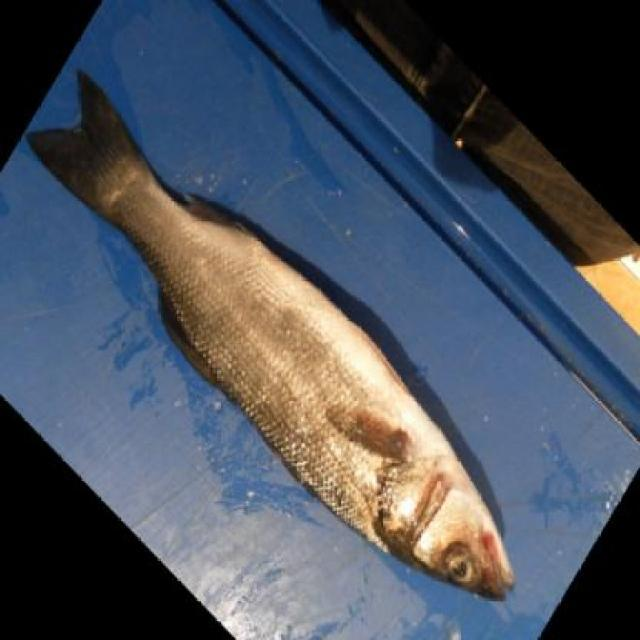Healthy Fish: (26, 59, 548, 608)
